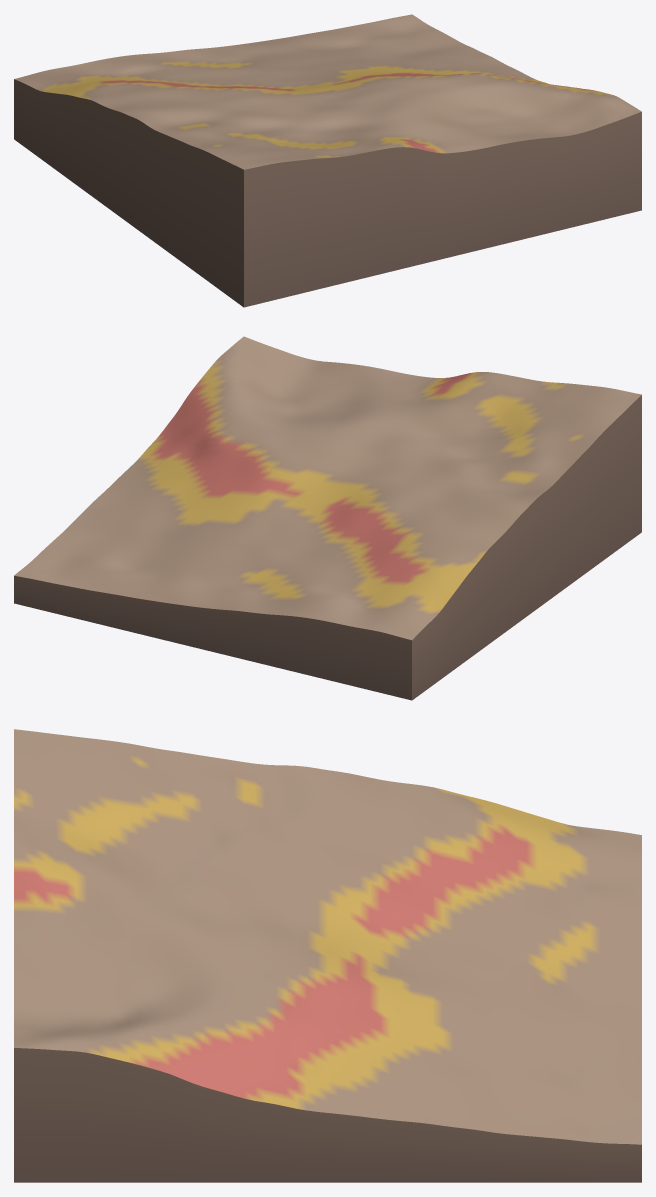
Rendered from wp1-ridge-flank.glb.
3 renders of one model, top to bottom at view 1: azimuth 30°, elevation 25°; view 2: azimuth 150°, elevation 25°; view 3: azimuth 270°, elevation 25°, orthographic. The views are drawn at different scales.
Parts seen in each view (by area): view 1: wp1-ridge-flank; view 2: wp1-ridge-flank; view 3: wp1-ridge-flank.
Boxes of the visible parts, x1,y1,x2,y2 form: wp1-ridge-flank: [14, 14, 641, 307]; wp1-ridge-flank: [14, 336, 641, 700]; wp1-ridge-flank: [14, 729, 641, 1182].
Bounding box in the file's own units: 59.94 × 19.82 × 59.94.
